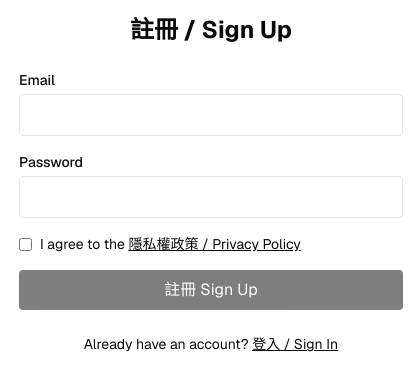
Test: SignupPage › enables submit after PDPA checkbox is checked
What coordinates should you click on to do the following:
click the checkbox
I would click on:
 (26, 244)
Its box is [19, 238, 32, 251].
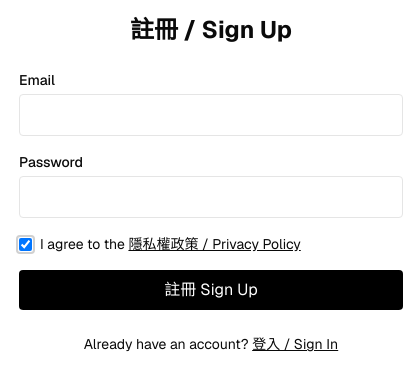
Expected: the button "註冊 Sign Up" is enabled, [19, 270, 403, 310]
